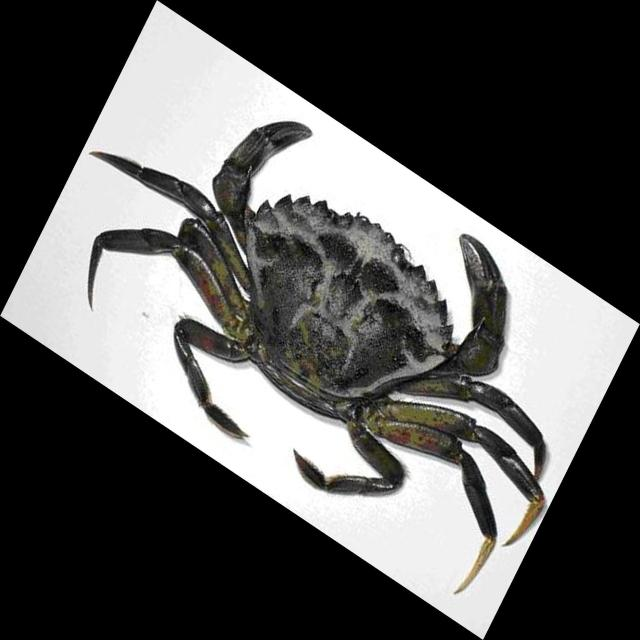European Green crab: (87, 122, 546, 593)
